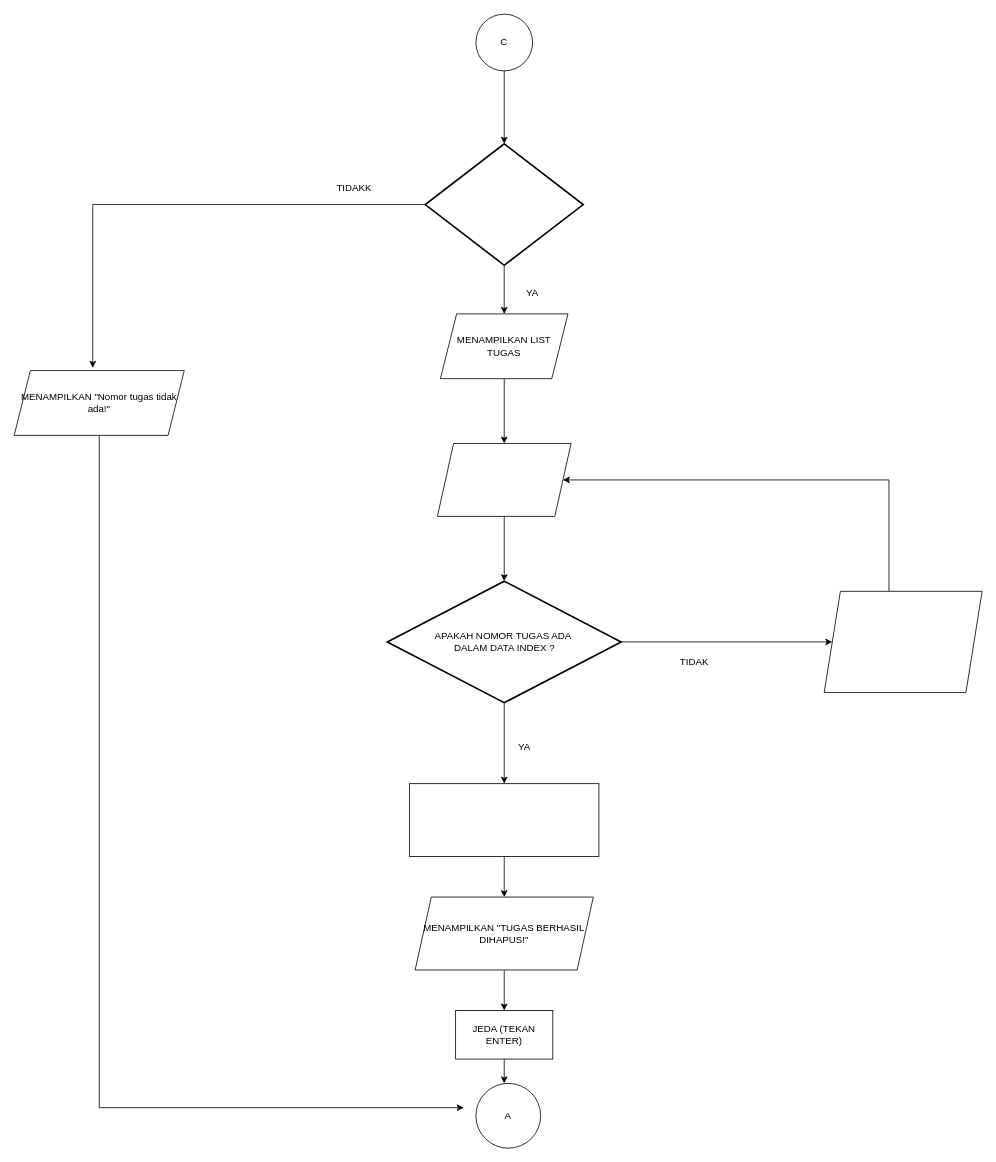
The diagram is 996 pixels wide and 1162 high, and some of its shapes have lost their labels. The shapes that lost their labels are listed below. From the top down, each one's centre as x and y in pixels, then its label:
(x=504, y=204): APAKAH ADA DATA TUGAS DALAM LIST ?
(x=504, y=479): INPUT NOMOR TUGAS
(x=902, y=641): MENAMPILKAN PESAN " Belum ada tugas yang dapat diubah."
(x=504, y=820): HAPUS TUGAS YANG DIPILIH. (Tugas.pop(index))
